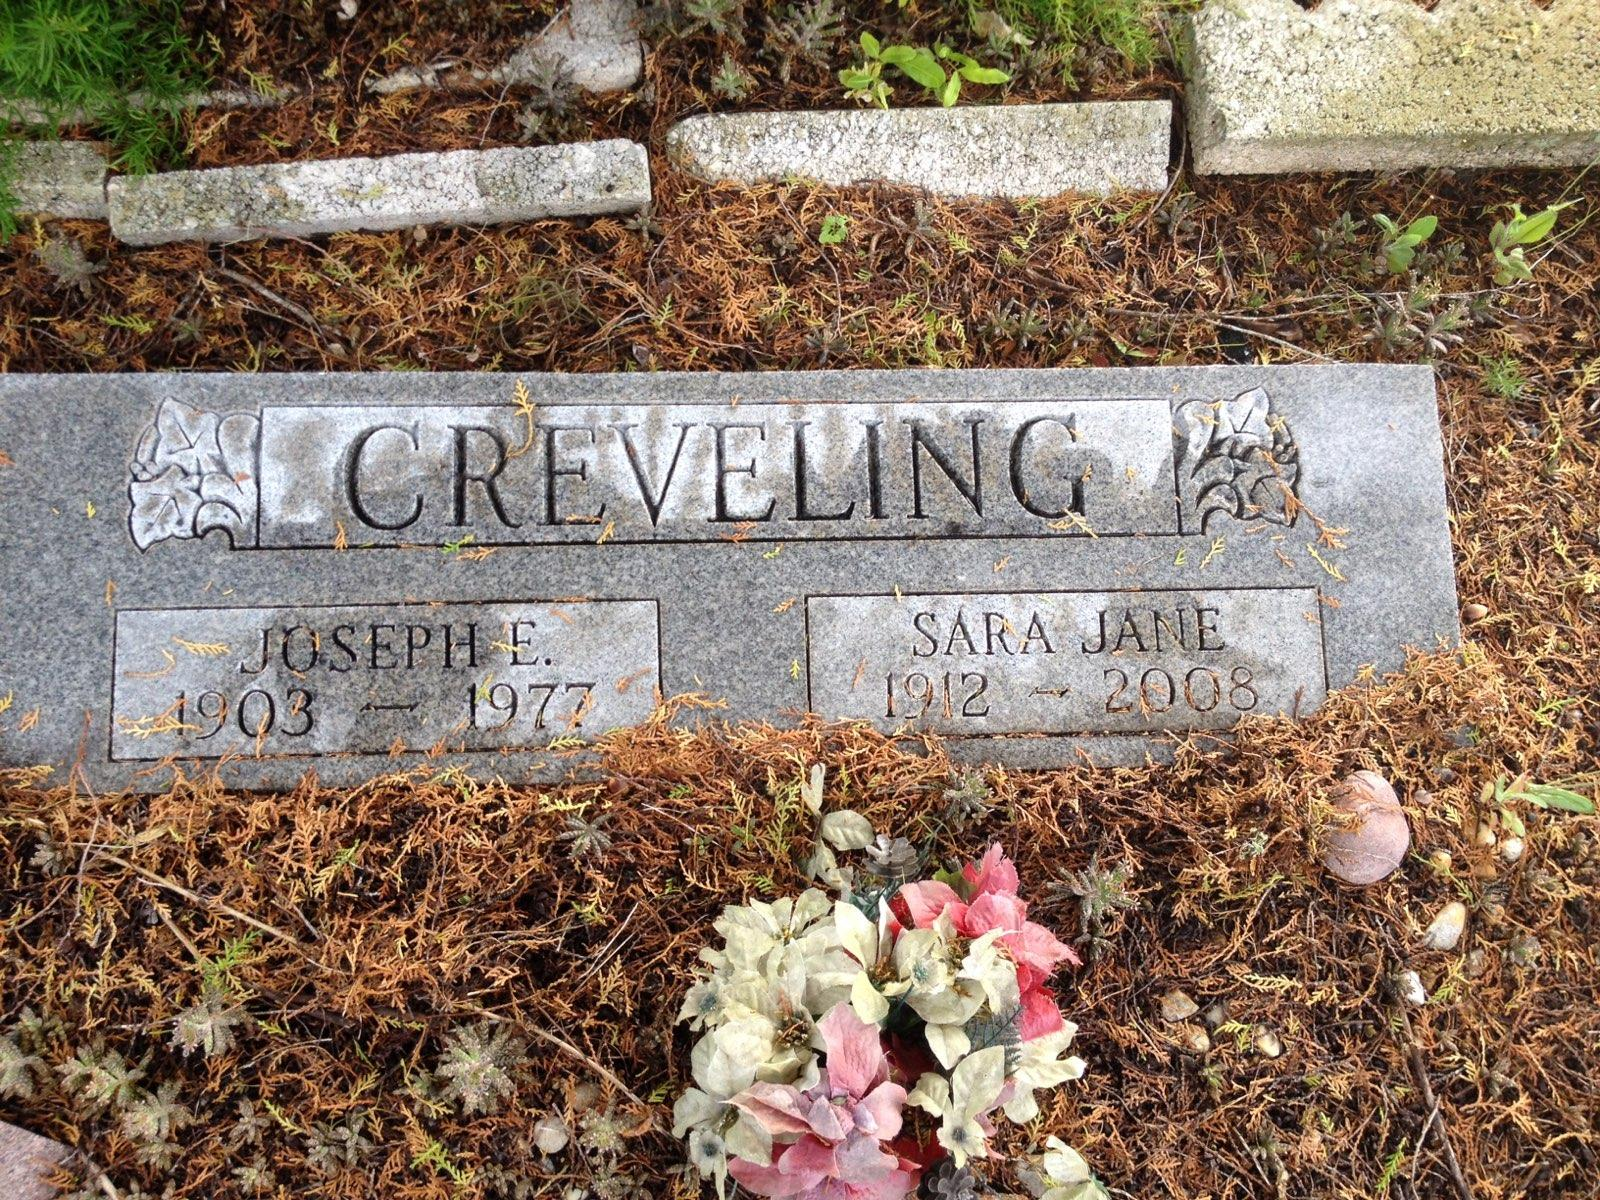flat: (0, 361, 1463, 776)
